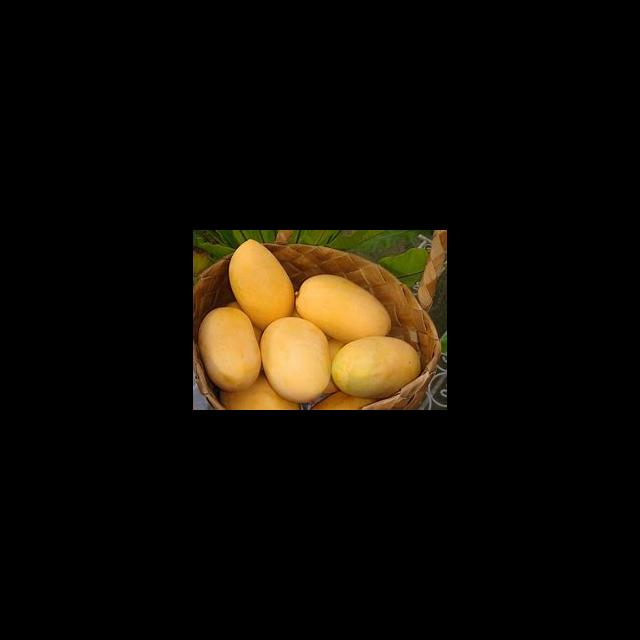mango: (294, 274, 391, 345), (228, 239, 295, 331), (261, 317, 331, 404), (330, 336, 421, 401), (198, 306, 261, 393), (216, 372, 301, 410)
